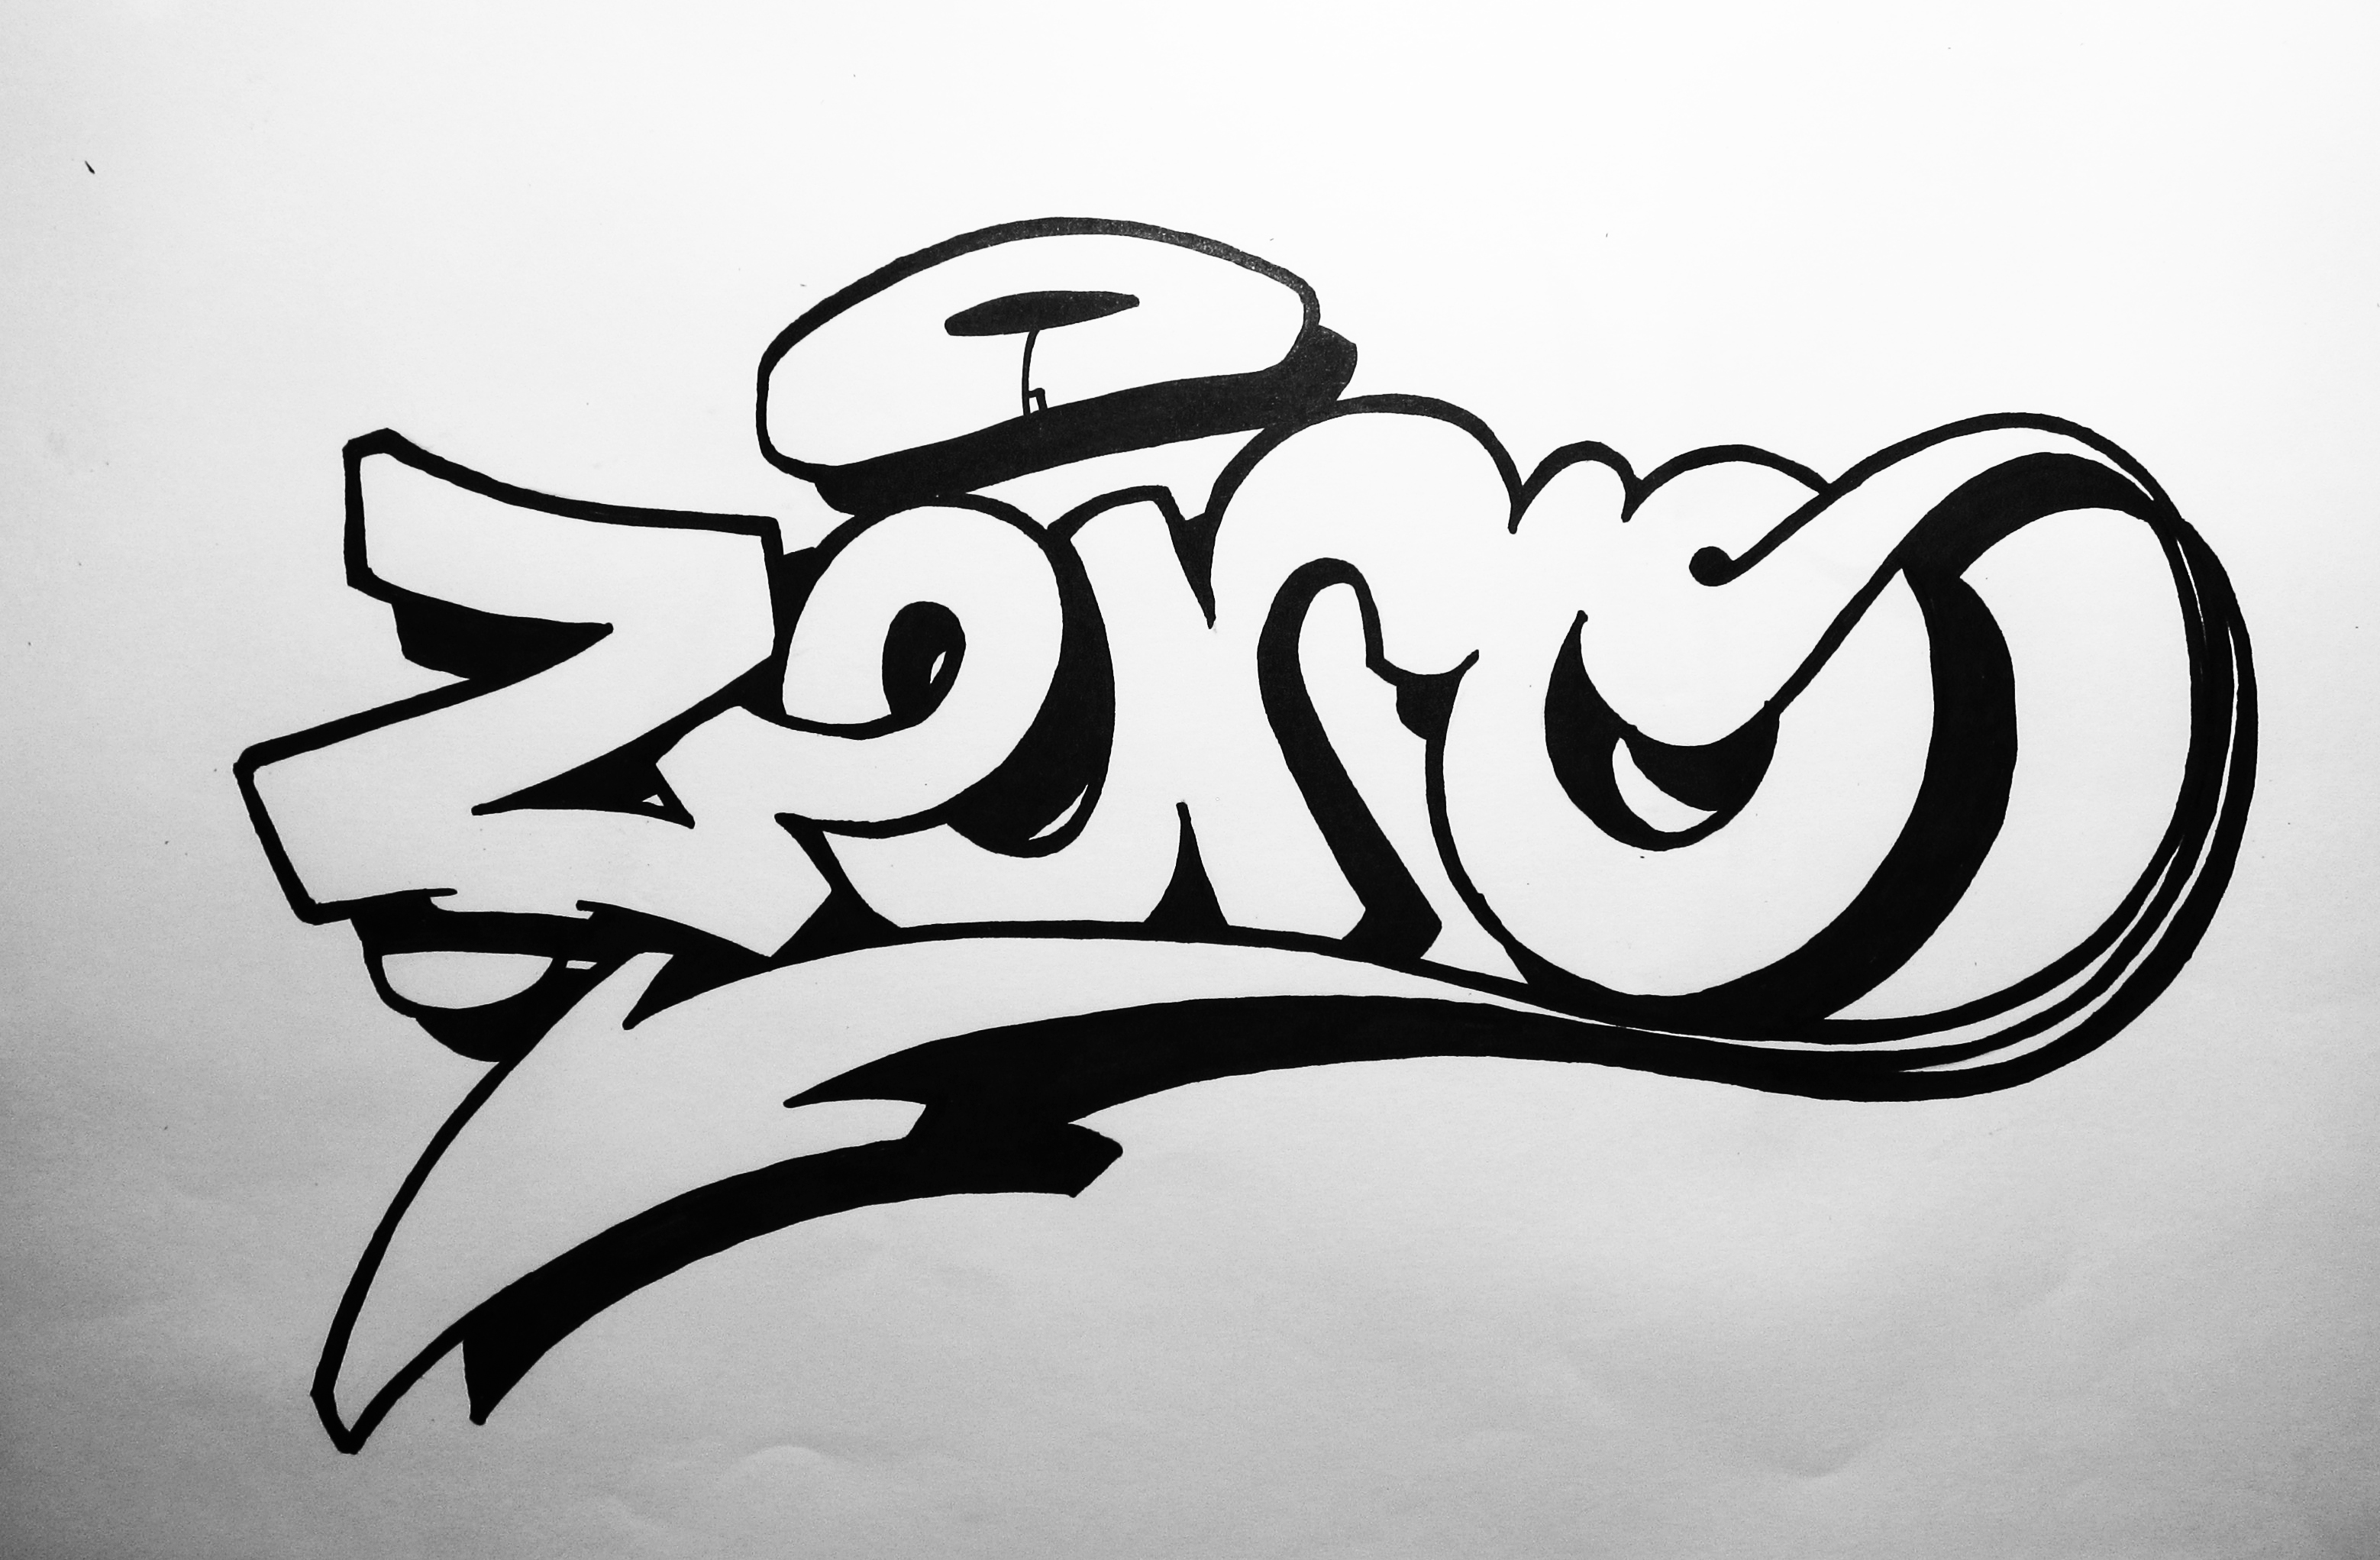graphite: (151, 192, 2307, 1487)
